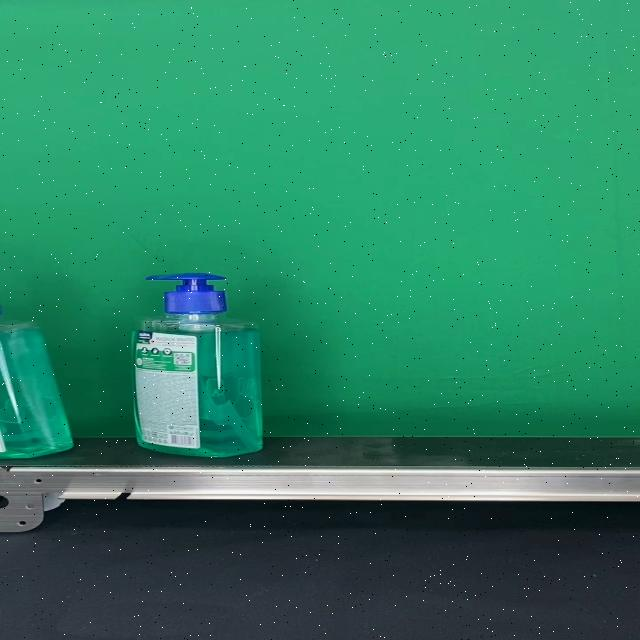Bottle: (130, 273, 264, 458)
Cap: (144, 273, 227, 314)
